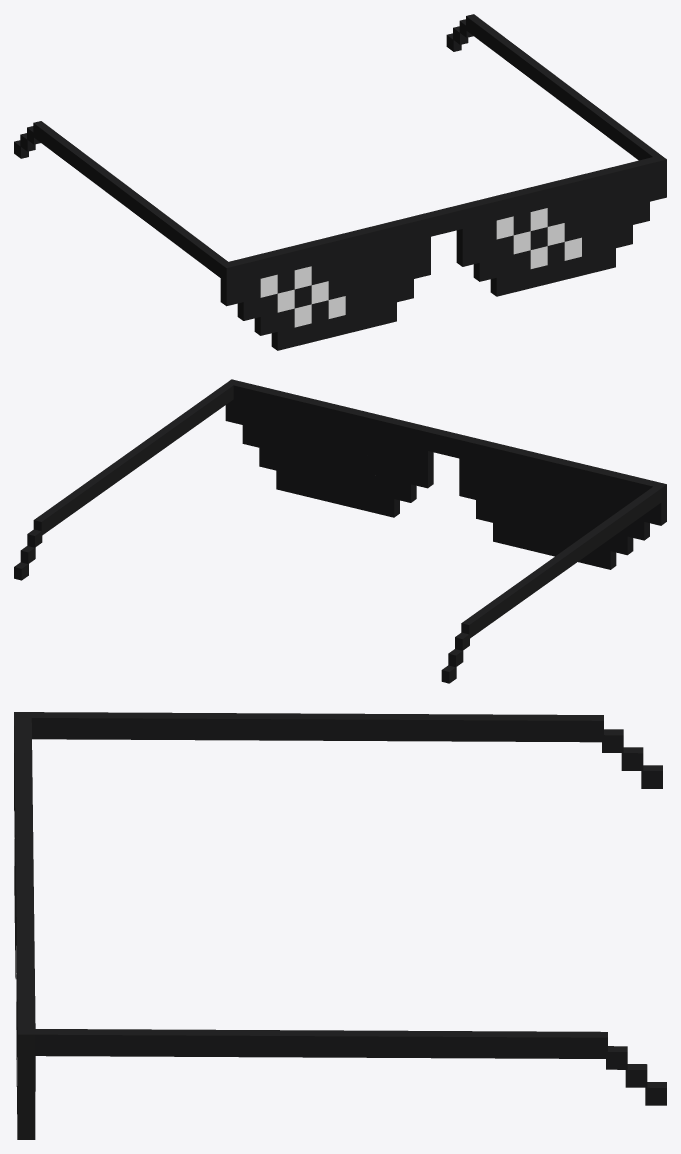
The model's file is dealglasses.glb.
3 views of the same model, one above another, from view 1: azimuth 30°, elevation 25°; view 2: azimuth 150°, elevation 25°; view 3: azimuth 270°, elevation 25° (orthographic). The views are drawn at different scales.
Visible parts, largest first — view 1: cube_108, cube_104, cube_51, cube_0; view 2: cube_108, cube_104, cube_51; view 3: cube_104, cube_108, cube_53.
Boxes of the visible parts, bbox=[...] form: cube_108: bbox=[33, 121, 227, 277]; cube_104: bbox=[466, 14, 660, 160]; cube_51: bbox=[425, 205, 462, 236]; cube_0: bbox=[220, 259, 243, 287]; cube_108: bbox=[461, 486, 661, 638]; cube_104: bbox=[33, 383, 233, 535]; cube_51: bbox=[428, 428, 464, 458]; cube_104: bbox=[35, 1029, 607, 1058]; cube_108: bbox=[31, 712, 603, 742]; cube_53: bbox=[17, 1022, 35, 1063].
Size of the model in its own units: 4.74 by 0.9682 by 4.02.
Materials: 1 (1 with a texture image).
